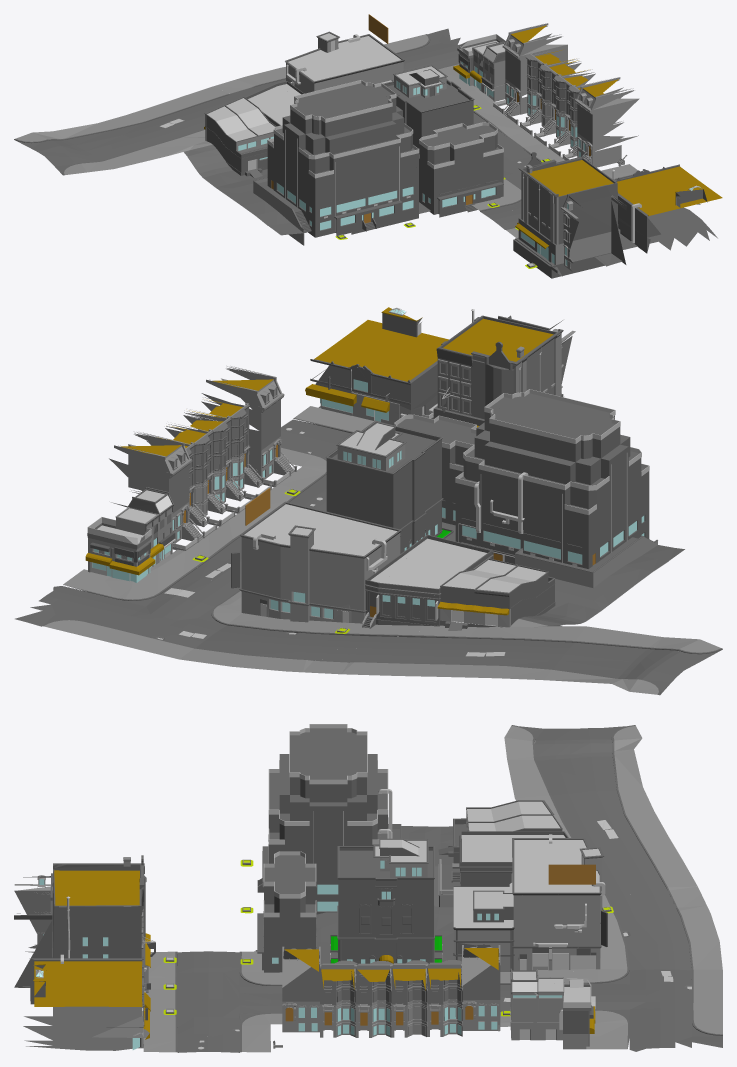
The model's file is brook_s2_5.FBX.
The picture shows the model from 3 angles, top to bottom: view 1: azimuth 30°, elevation 25°; view 2: azimuth 150°, elevation 25°; view 3: azimuth 270°, elevation 25°; orthographic projection. The views are drawn at different scales.
Visible parts, largest first — view 1: unnamed, null; view 2: unnamed, null; view 3: unnamed, null.
Boxes of the visible parts, x1,y1,x2,y2 form: unnamed: (14, 14, 722, 278); null: (277, 23, 595, 163); unnamed: (15, 307, 722, 695); null: (109, 422, 502, 596); unnamed: (14, 724, 722, 1052); null: (373, 810, 599, 1040).
Size of the model in its own units: 135 by 32.54 by 137.
